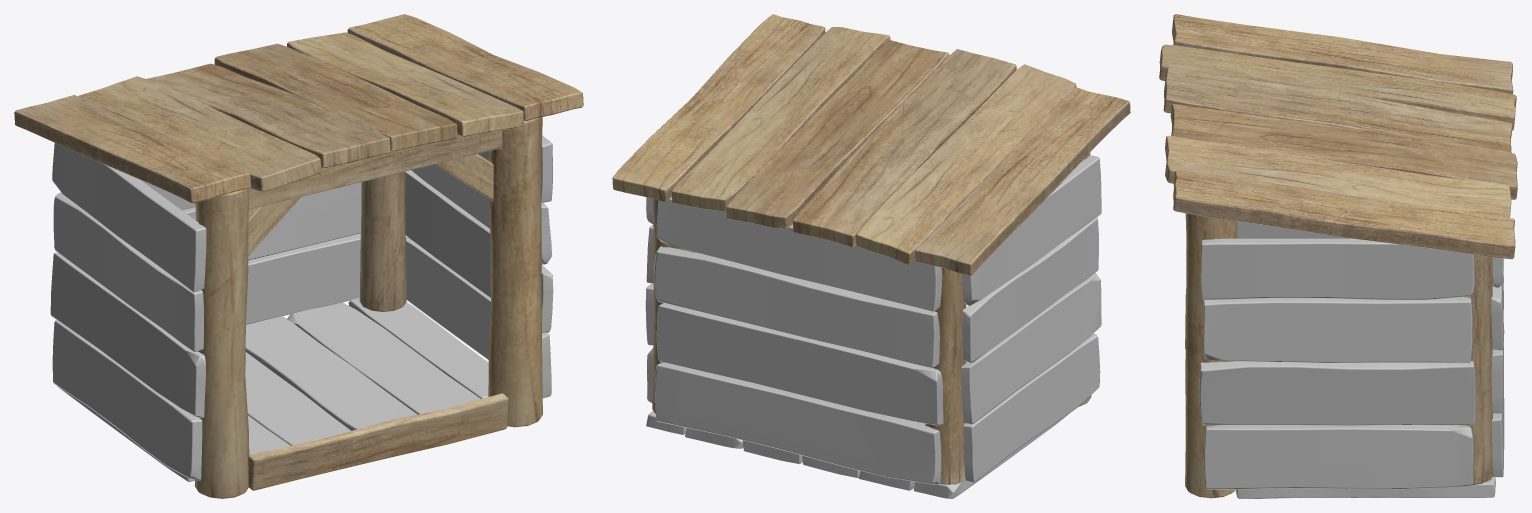
3 views of the same model, side by side, from view 1: azimuth 30°, elevation 25°; view 2: azimuth 150°, elevation 25°; view 3: azimuth 270°, elevation 25° (orthographic). The views are drawn at different scales.
Visible parts, largest first — view 1: SM_Lumber_Storage_01_LOD0; view 2: SM_Lumber_Storage_01_LOD0; view 3: SM_Lumber_Storage_01_LOD0.
Boxes of the visible parts, <box> form: SM_Lumber_Storage_01_LOD0: <box>14,14,583,498</box>; SM_Lumber_Storage_01_LOD0: <box>612,14,1130,498</box>; SM_Lumber_Storage_01_LOD0: <box>1159,14,1517,498</box>.
Size of the model in its own units: 1.83 by 1.48 by 1.5.
